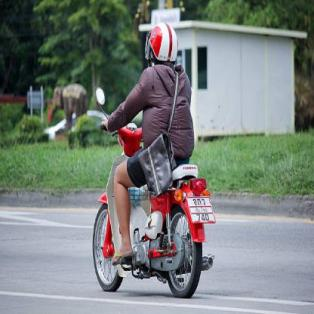Motocicleta: (89, 112, 208, 301)
